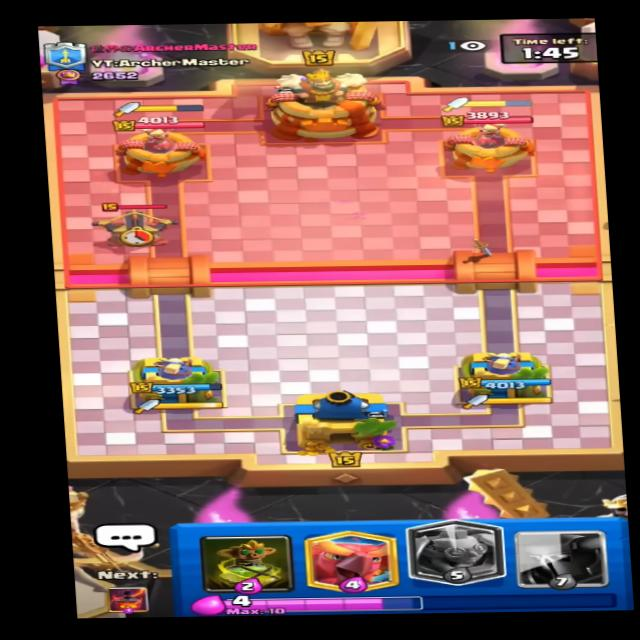Xbow: (92, 201, 188, 254)
